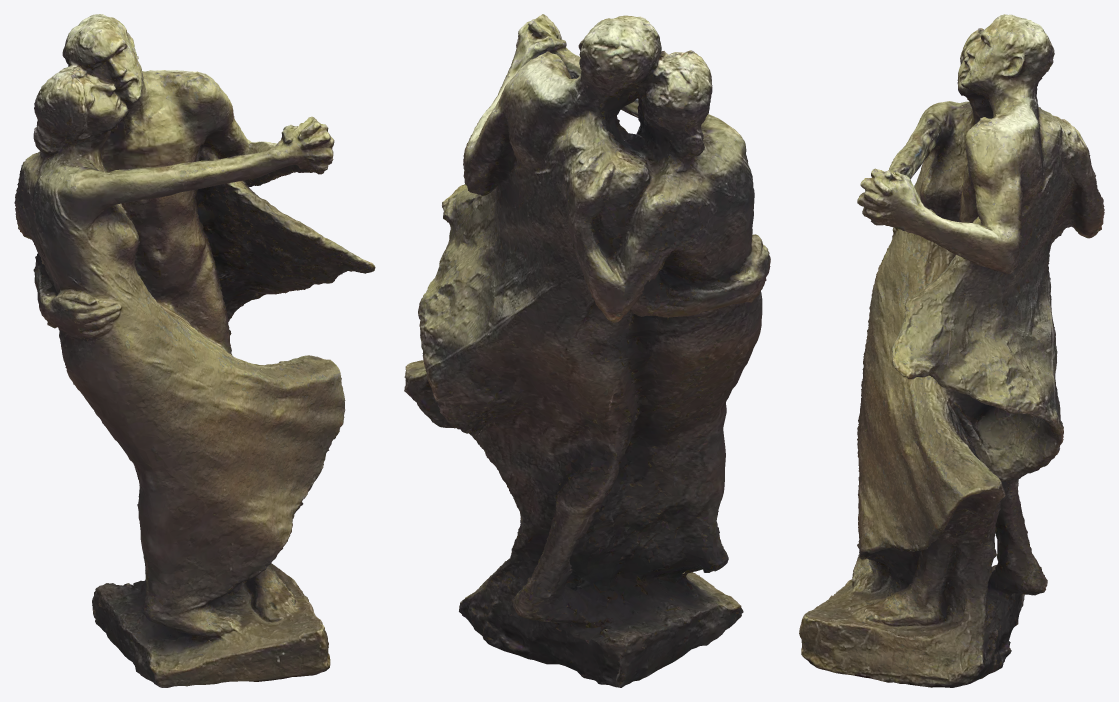
File: preview.glb
The picture shows the model from 3 angles, left to right: view 1: azimuth 30°, elevation 25°; view 2: azimuth 150°, elevation 25°; view 3: azimuth 270°, elevation 25°; orthographic projection. The views are drawn at different scales.
Visible parts, largest first — view 1: Object_2; view 2: Object_2; view 3: Object_2.
Part boxes in pixels (<box>): Object_2: <box>14,14,375,687</box>; Object_2: <box>404,14,770,687</box>; Object_2: <box>799,14,1104,687</box>.
Bounding box in the file's own units: 19.29 × 36.33 × 17.
Materials: 1 (1 with a texture image).
